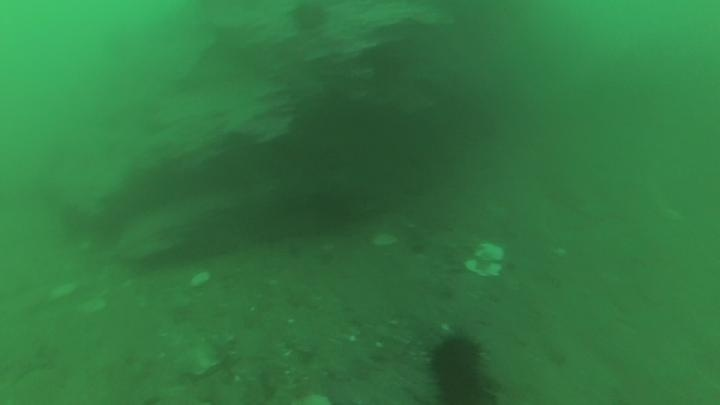echinus: (427, 332, 491, 384), (441, 375, 496, 405), (287, 2, 332, 35)
